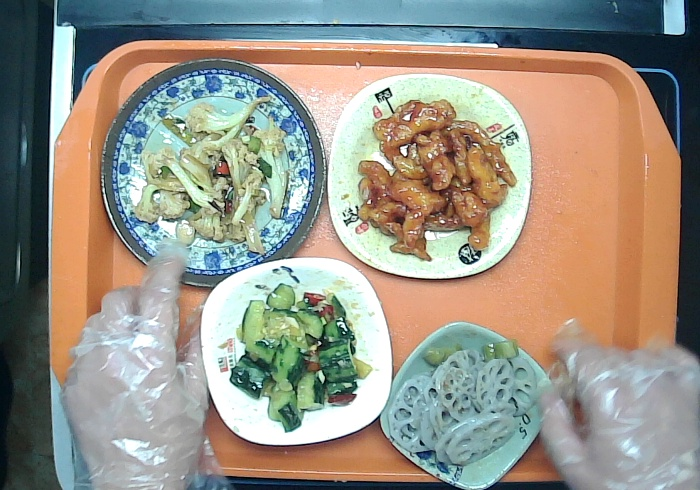NLDX-Bai_Se_Xiao_Fang_Die: (194, 251, 396, 449)
NLDX-Fu_Zi_Fang_Die: (323, 70, 535, 284)
NLDX-Qing_Hua_Xiao_Fang_Die: (376, 318, 560, 490)
NLDX-Qing_Hua_Yuan_Die: (93, 51, 331, 296)
